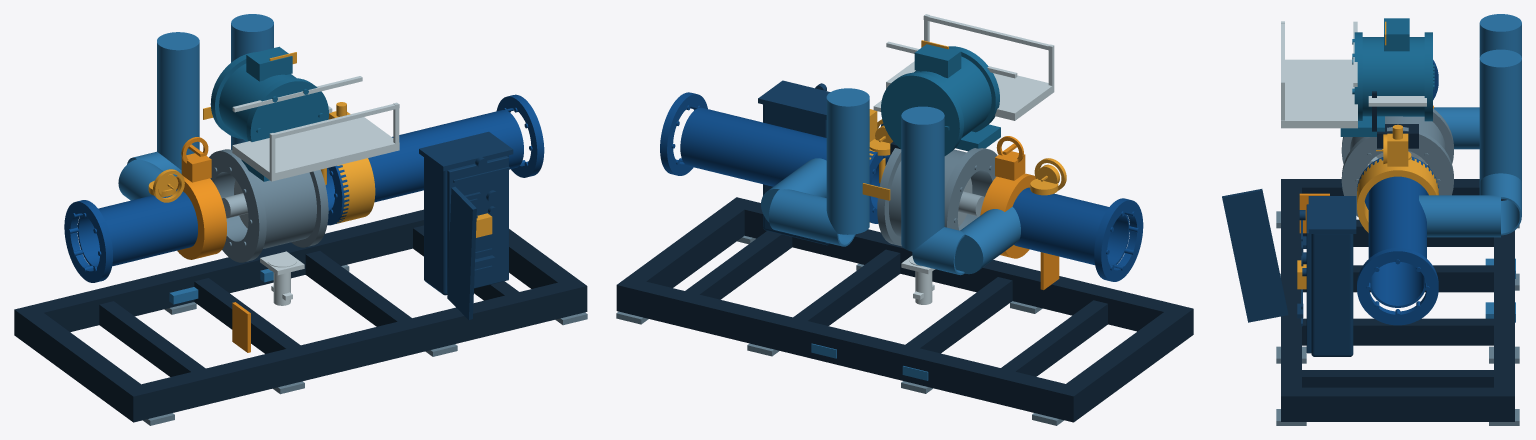
Rendered from regenflow-service.glb.
3 renders of one model, left to right at view 1: azimuth 30°, elevation 25°; view 2: azimuth 150°, elevation 25°; view 3: azimuth 270°, elevation 25°, orthographic. The views are drawn at different scales.
Parts seen in each view (by area): view 1: regenflow.skid_frame, regenflow.control_cabinet, regenflow.service_bypass, regenflow.inlet_pressure_pipe, regenflow.pat_housing, regenflow.outlet_pressure_pipe, regenflow.service_platform, regenflow.generator, regenflow.isolation_valve, regenflow.control_cabinet.service_door, regenflow.instrumentation, regenflow.drain_access (+2 smaller); view 2: regenflow.skid_frame, regenflow.service_bypass, regenflow.outlet_pressure_pipe, regenflow.generator, regenflow.inlet_pressure_pipe, regenflow.pat_housing, regenflow.service_platform, regenflow.control_cabinet, regenflow.isolation_valve, regenflow.instrumentation, regenflow.drain_access, regenflow.pat_runner (+1 smaller); view 3: regenflow.skid_frame, regenflow.service_bypass, regenflow.outlet_pressure_pipe, regenflow.control_cabinet, regenflow.generator, regenflow.service_platform, regenflow.control_cabinet.service_door, regenflow.pat_housing, regenflow.instrumentation, regenflow.runner_coupling_guard, regenflow.service_cover, regenflow.lockout_tagout.
Boxes of the visible parts, left/top/right/bottom form: regenflow.skid_frame: left=14, top=209, right=587, bottom=422; regenflow.control_cabinet: left=419, top=131, right=513, bottom=295; regenflow.service_bypass: left=118, top=14, right=273, bottom=304; regenflow.inlet_pressure_pipe: left=64, top=189, right=197, bottom=282; regenflow.pat_housing: left=209, top=149, right=328, bottom=262; regenflow.outlet_pressure_pipe: left=325, top=94, right=544, bottom=225; regenflow.service_platform: left=232, top=76, right=399, bottom=181; regenflow.generator: left=210, top=46, right=328, bottom=181; regenflow.isolation_valve: left=176, top=153, right=226, bottom=259; regenflow.control_cabinet.service_door: left=447, top=186, right=476, bottom=319; regenflow.instrumentation: left=148, top=102, right=375, bottom=223; regenflow.drain_access: left=260, top=251, right=304, bottom=305; regenflow.skid_frame: left=616, top=197, right=1193, bottom=422; regenflow.service_bypass: left=761, top=88, right=1020, bottom=380; regenflow.outlet_pressure_pipe: left=660, top=92, right=890, bottom=223; regenflow.generator: left=881, top=44, right=1000, bottom=155; regenflow.inlet_pressure_pipe: left=1012, top=187, right=1143, bottom=281; regenflow.pat_housing: left=877, top=148, right=997, bottom=246; regenflow.service_platform: left=886, top=14, right=1054, bottom=120; regenflow.control_cabinet: left=758, top=80, right=830, bottom=245; regenflow.isolation_valve: left=980, top=151, right=1035, bottom=258; regenflow.instrumentation: left=869, top=109, right=1066, bottom=222; regenflow.drain_access: left=901, top=255, right=935, bottom=304; regenflow.pat_runner: left=957, top=178, right=984, bottom=226; regenflow.skid_frame: left=1281, top=179, right=1514, bottom=421; regenflow.service_bypass: left=1419, top=14, right=1521, bottom=322; regenflow.outlet_pressure_pipe: left=1357, top=156, right=1438, bottom=325; regenflow.control_cabinet: left=1297, top=196, right=1356, bottom=356; regenflow.generator: left=1340, top=18, right=1434, bottom=136; regenflow.service_platform: left=1281, top=21, right=1357, bottom=128; regenflow.control_cabinet.service_door: left=1222, top=189, right=1288, bottom=322; regenflow.pat_housing: left=1341, top=108, right=1453, bottom=216; regenflow.instrumentation: left=1357, top=124, right=1438, bottom=232; regenflow.runner_coupling_guard: left=1372, top=91, right=1418, bottom=148; regenflow.service_cover: left=1368, top=96, right=1426, bottom=106; regenflow.lockout_tagout: left=1299, top=193, right=1329, bottom=233.
Size of the model in its own units: 2200 by 1314 by 1281.
